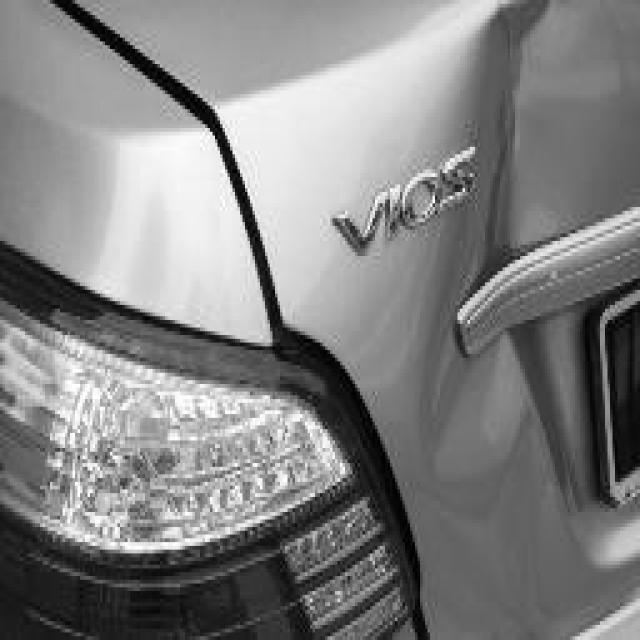Dickey: (83, 0, 640, 635)
